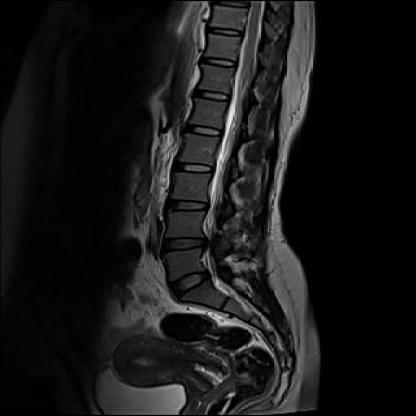Degenerative Disc Diseaserotation: (164, 234, 208, 256)
Disc Herniationrotation: (165, 234, 209, 256)
